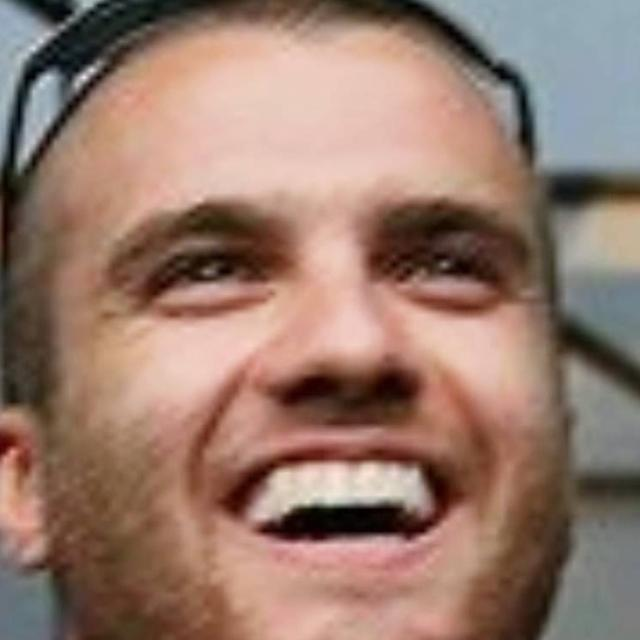Normal: (45, 21, 572, 639)
